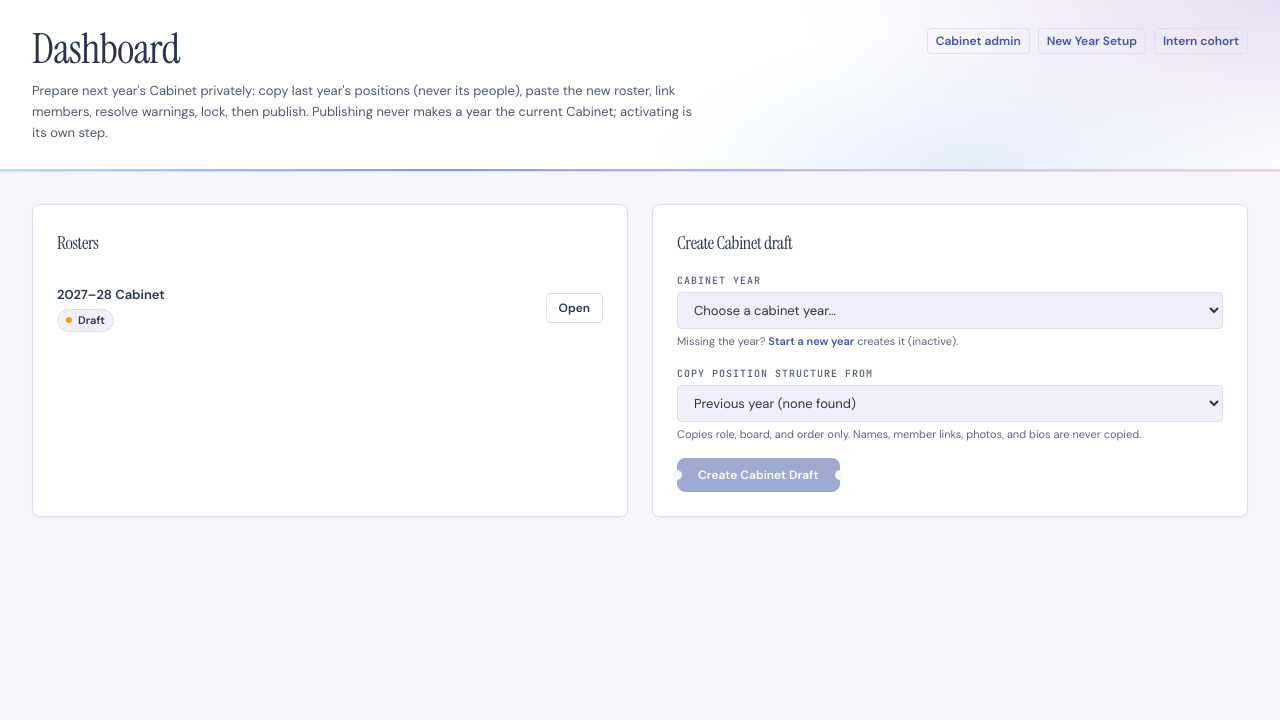
Test: filters, bulk actions, structure copy, and preview › flags the same person in the same role twice as a possible duplicate
The width and height of the screenshot is (1280, 720).
Click the button "Open": (574, 308) [546,293,603,323]
(page scrolled)
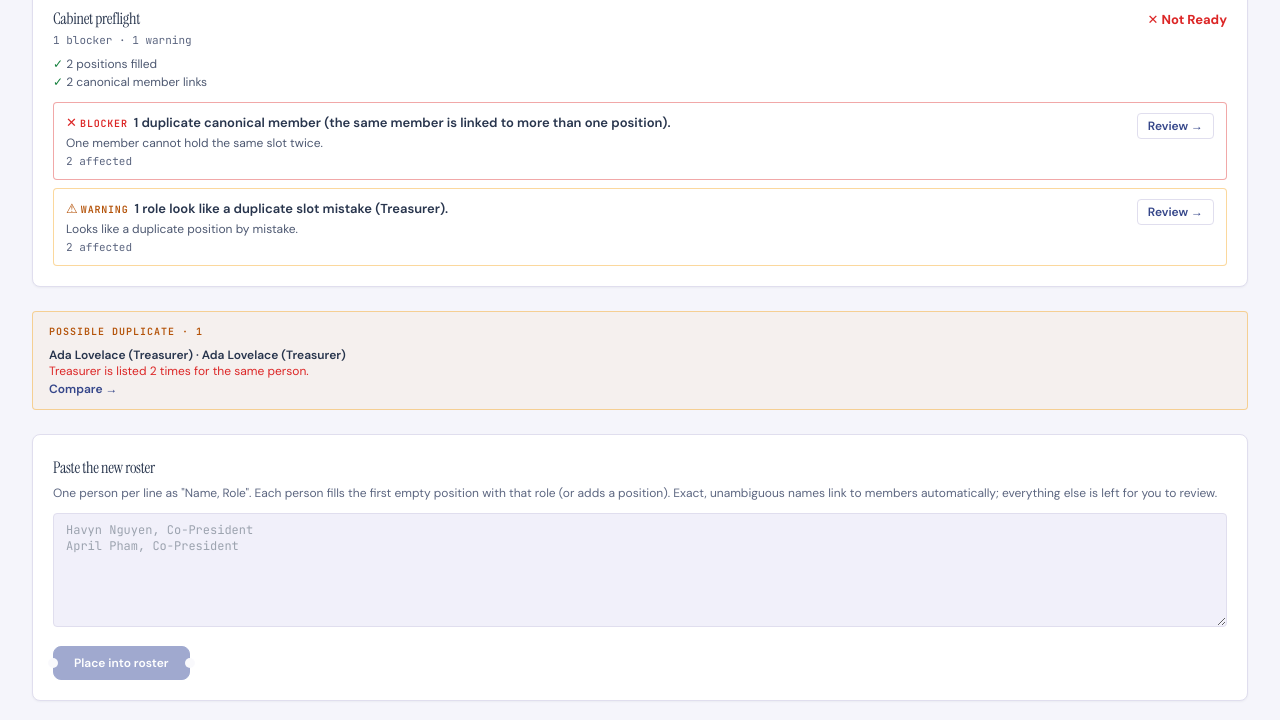
Expected: the element named "Possible duplicates" shows "listed 2 times", [49,363,309,379]
